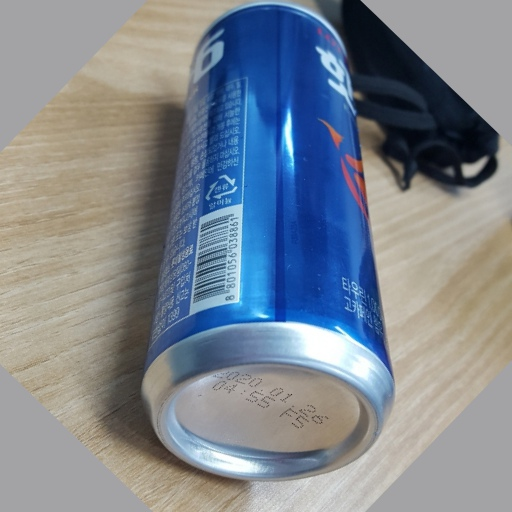Metal_0: (144, 4, 394, 482)
